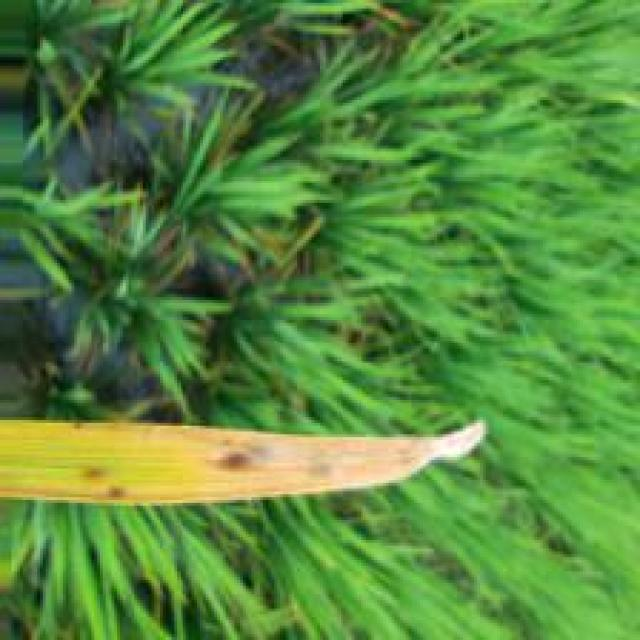Bacterial_Leaf_Blight: (90, 423, 490, 497)
